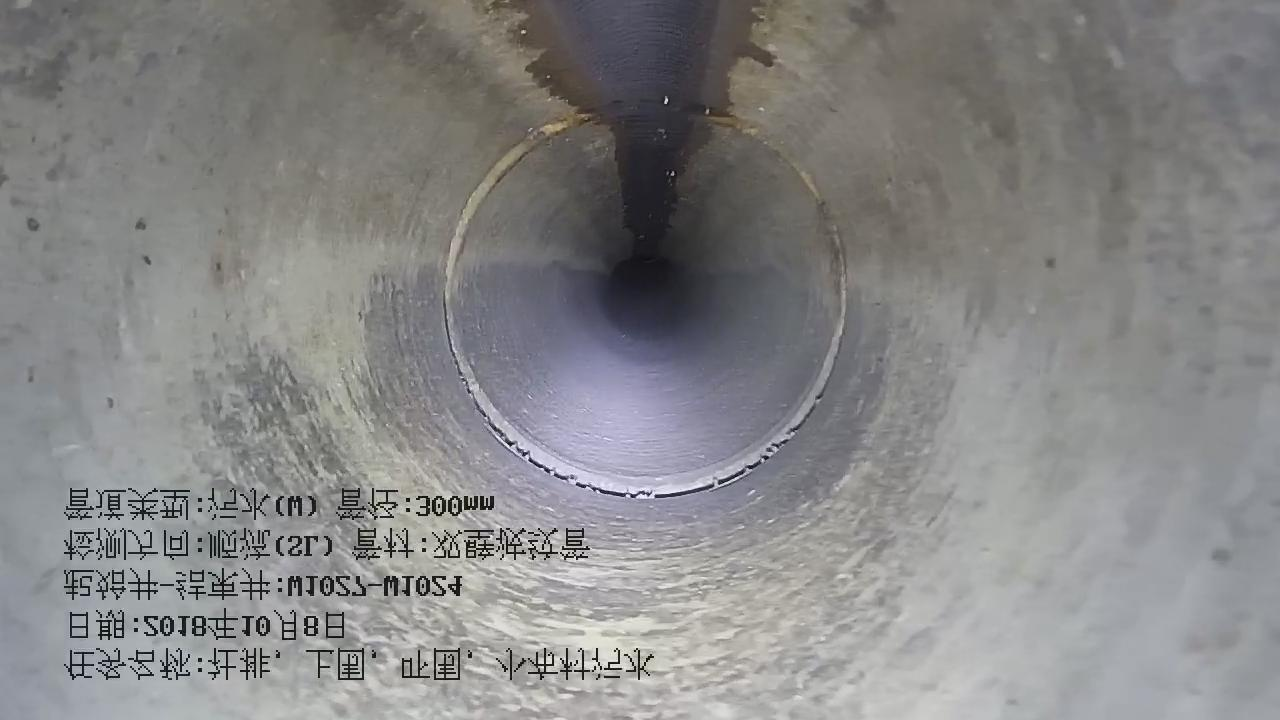CKTJ: (442, 115, 847, 500)
